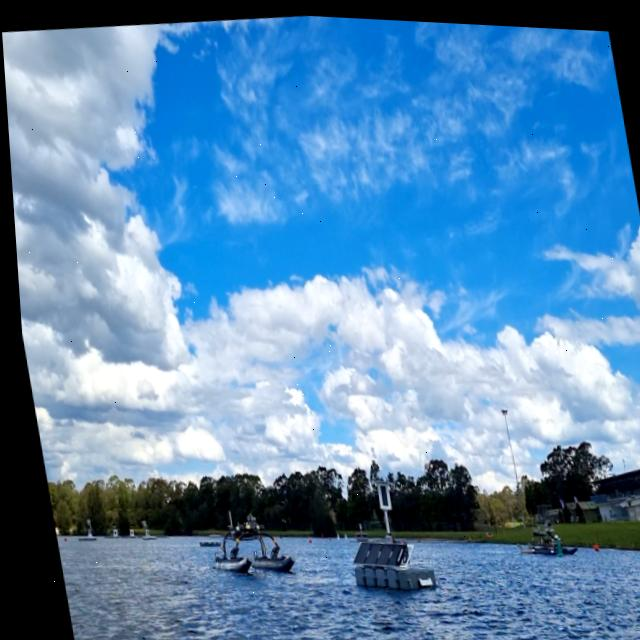led: (371, 479, 383, 505)
